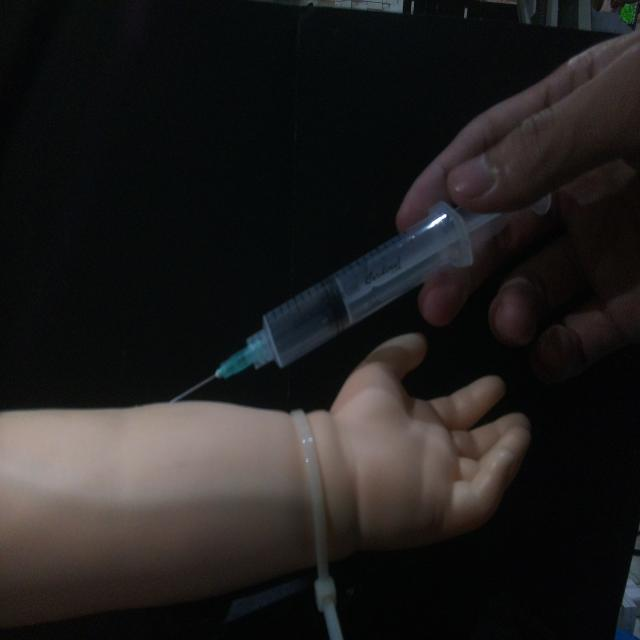17deg: (164, 188, 552, 406)
